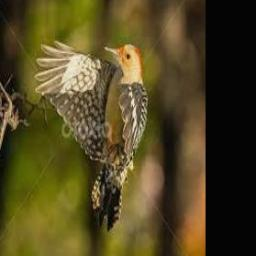Woodpecker: (35, 40, 149, 231)
